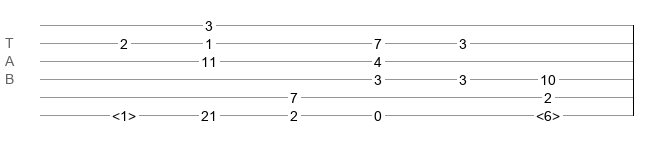0: (374, 108, 382, 118)
1: (205, 36, 213, 46)
10: (540, 72, 556, 82)
11: (201, 54, 217, 64)
2: (120, 36, 128, 46), (290, 108, 298, 118), (544, 90, 552, 100)
21: (201, 108, 217, 118)
3: (205, 18, 213, 28), (374, 72, 382, 82), (459, 36, 467, 46), (459, 72, 467, 82)
4: (374, 54, 382, 64)
7: (290, 90, 298, 100), (374, 36, 382, 46)
harmonic: (112, 108, 136, 118), (536, 108, 560, 118)
